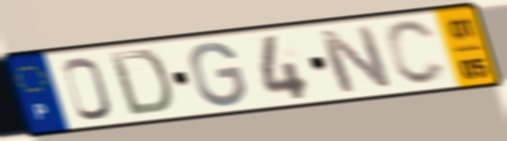0: (62, 56, 114, 123)
4: (259, 32, 314, 102)
C: (382, 17, 450, 87)
D: (105, 47, 175, 118)
G: (187, 40, 250, 109)
N: (314, 23, 397, 95)
